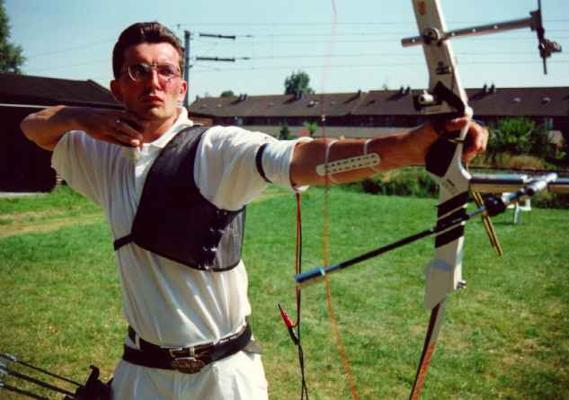person: (24, 20, 489, 400)
